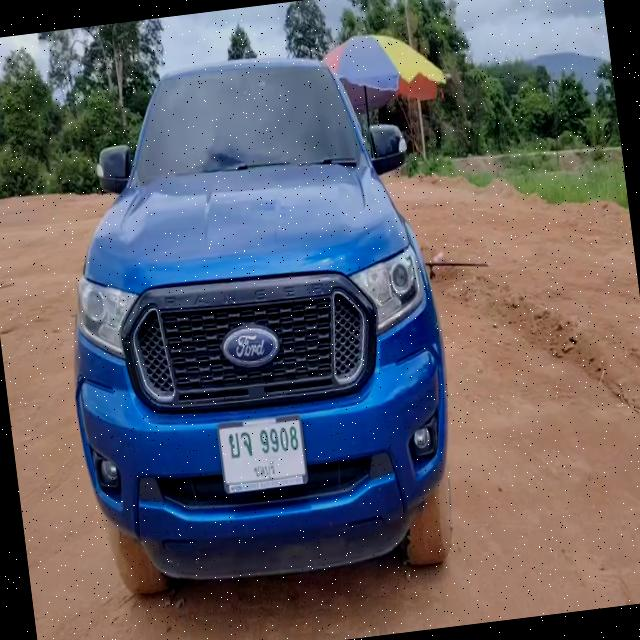Digit: (257, 422, 301, 458)
Licenseplate: (216, 416, 309, 494)
Provincename: (252, 458, 278, 482)
Thaichar: (228, 427, 254, 461)
